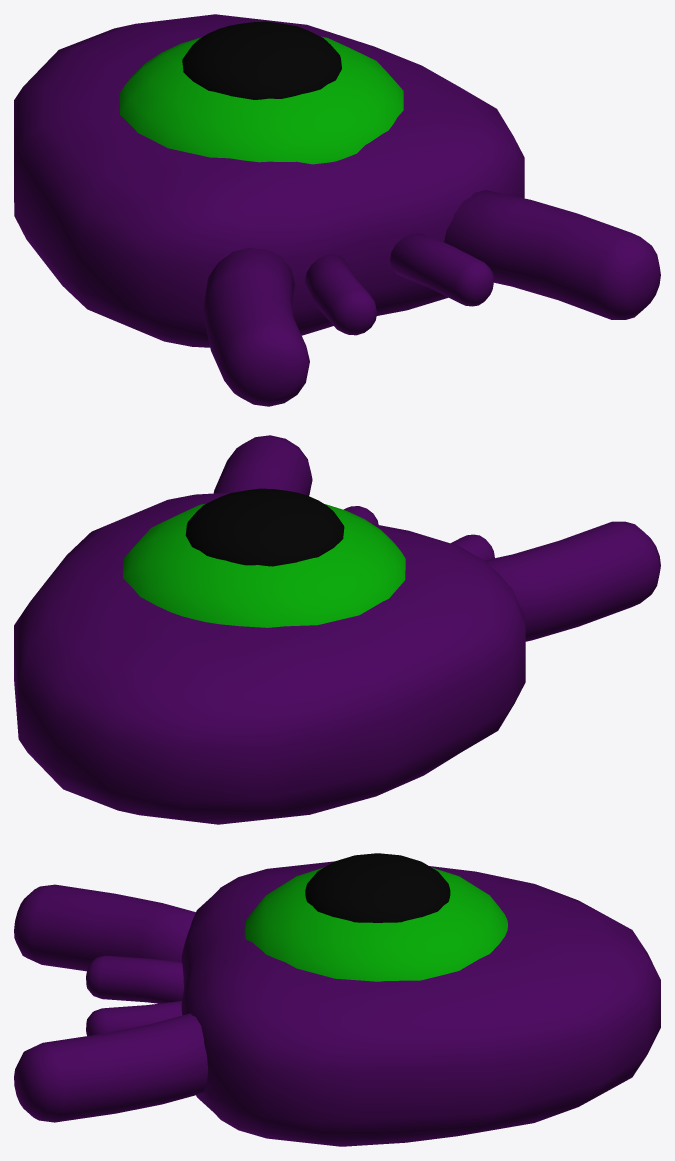
File: purple_enemy.glb
The picture shows the model from 3 angles, top to bottom: view 1: azimuth 30°, elevation 25°; view 2: azimuth 150°, elevation 25°; view 3: azimuth 270°, elevation 25°; orthographic projection. The views are drawn at different scales.
Parts seen in each view (by area): view 1: Sphere; view 2: Sphere; view 3: Sphere.
Part boxes in pixels (x1,y1,x2,y2): Sphere: [14, 14, 660, 406]; Sphere: [14, 435, 660, 824]; Sphere: [14, 853, 660, 1146].
Bounding box in the file's own units: 2.29 × 1.22 × 3.28.
